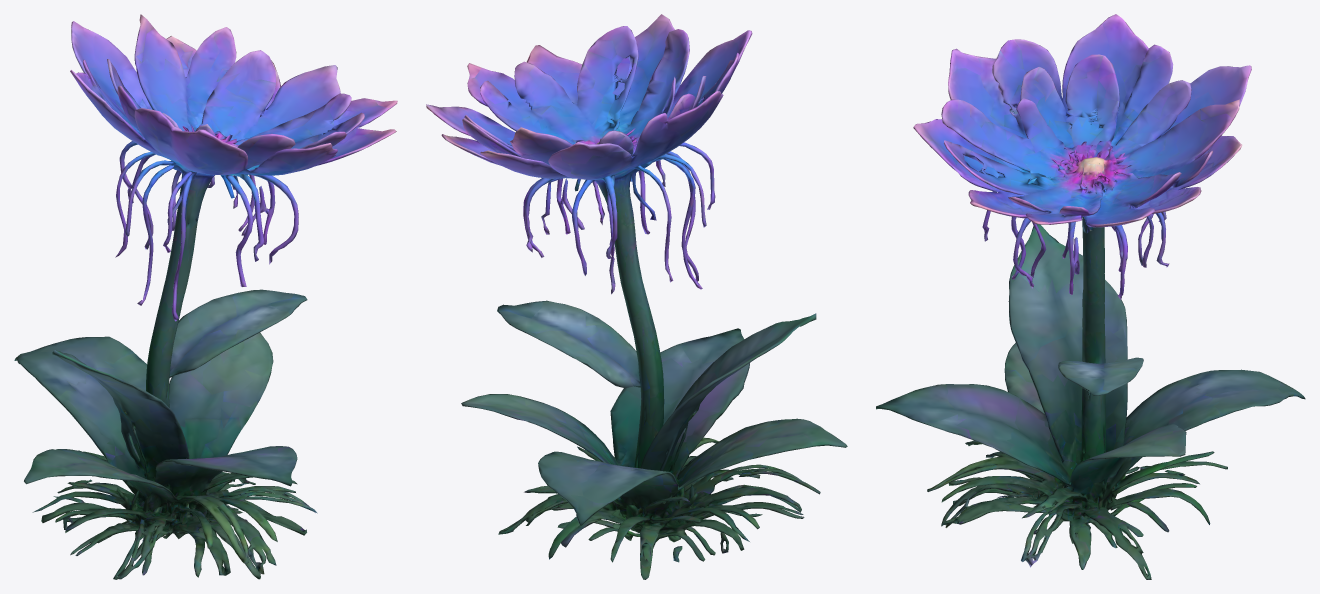
Rendered from plant3.glb.
The picture shows the model from 3 angles, left to right: view 1: azimuth 30°, elevation 25°; view 2: azimuth 150°, elevation 25°; view 3: azimuth 270°, elevation 25°; orthographic projection.
Bounding box in the file's own units: 1.64 × 1.99 × 1.65.
Materials: 1 (1 with a texture image).
